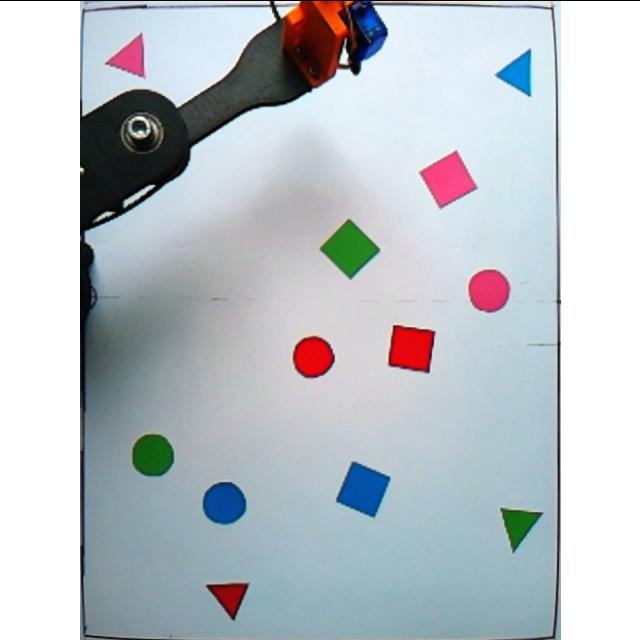blueCircle: (200, 478, 246, 526)
blueSquare: (334, 459, 391, 518)
blueTriangle: (491, 44, 534, 100)
greenCircle: (129, 432, 175, 478)
greenSquare: (316, 216, 382, 282)
greenTriangle: (497, 506, 545, 554)
pinkCircle: (465, 266, 511, 312)
pinkSquare: (416, 147, 478, 211)
pinkTriangle: (105, 30, 145, 78)
redCircle: (290, 332, 338, 378)
redSquare: (384, 322, 438, 374)
redTriangle: (202, 574, 252, 624)
